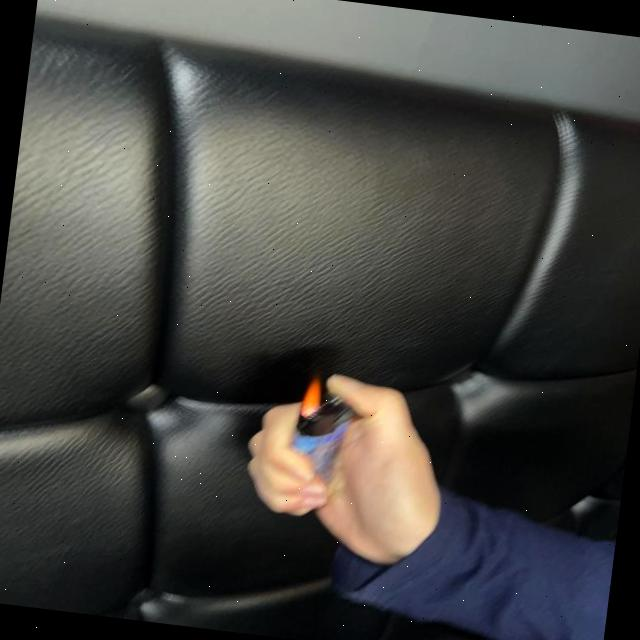fire: (300, 374, 324, 419)
